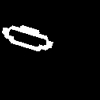chain: (2, 25, 52, 50)
